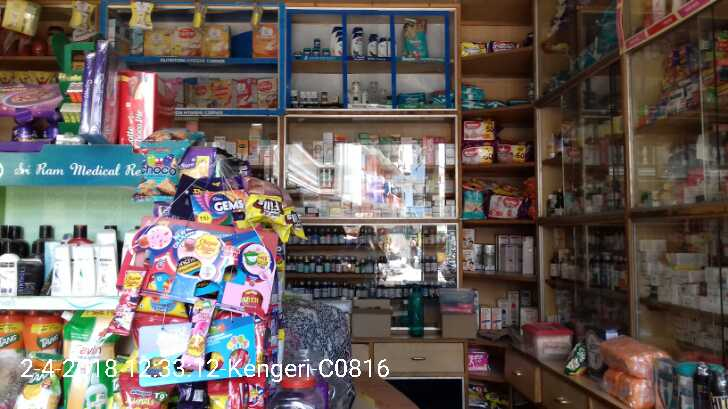vicks: (302, 36, 330, 55)
